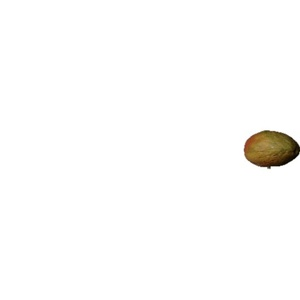mamão: (242, 123, 299, 171)
